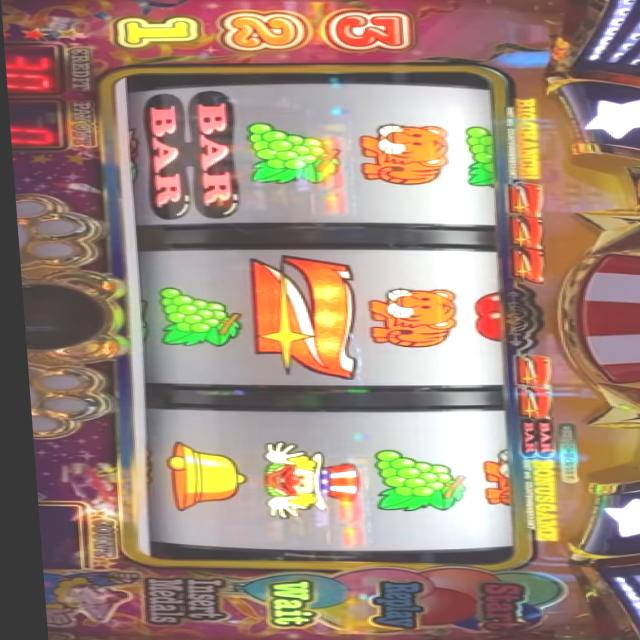bar: (135, 88, 240, 222), (505, 418, 550, 460)
bell: (150, 440, 243, 512)
cherry: (461, 290, 498, 344)
clown: (241, 441, 357, 518)
display: (98, 70, 524, 564)
grape: (361, 448, 466, 515), (242, 122, 344, 186), (149, 286, 239, 348), (459, 122, 496, 190)
tiger: (353, 124, 450, 186), (359, 288, 455, 348), (473, 448, 504, 508)
z: (236, 258, 357, 378), (497, 182, 547, 218), (500, 248, 545, 286), (502, 216, 546, 248), (505, 355, 549, 386), (507, 387, 550, 417)
